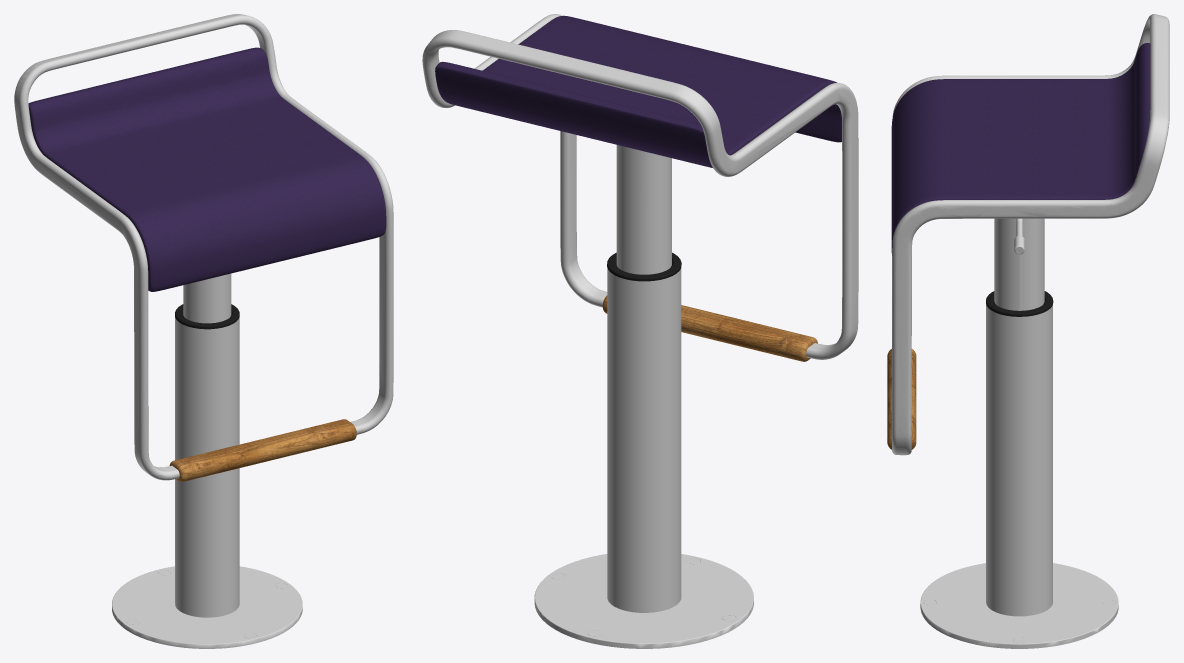
File: c113-teknofibra-17.glb
The picture shows the model from 3 angles, left to right: view 1: azimuth 30°, elevation 25°; view 2: azimuth 150°, elevation 25°; view 3: azimuth 270°, elevation 25°; orthographic projection. The views are drawn at different scales.
Visible parts, largest first — view 1: c113-seduta-tessuto, c113-base-piastra, c113-poggiapiedi-legno, c113-ammortizzatore-distanziale; view 2: c113-base-piastra, c113-seduta-tessuto, c113-poggiapiedi-legno, c113-ammortizzatore-distanziale; view 3: c113-base-piastra, c113-seduta-tessuto, c113-poggiapiedi-legno, c113-ammortizzatore-distanziale.
Part boxes in pixels (box(x1,y1,x2,y2)): c113-seduta-tessuto: box(28, 47, 386, 291); c113-base-piastra: box(14, 14, 393, 648); c113-poggiapiedi-legno: box(169, 419, 356, 481); c113-ammortizzatore-distanziale: box(175, 304, 239, 329); c113-base-piastra: box(422, 14, 858, 648); c113-seduta-tessuto: box(435, 15, 841, 167); c113-poggiapiedi-legno: box(602, 295, 817, 361); c113-ammortizzatore-distanziale: box(607, 252, 681, 281); c113-base-piastra: box(892, 14, 1169, 648); c113-seduta-tessuto: box(891, 43, 1150, 255); c113-poggiapiedi-legno: box(887, 349, 916, 449); c113-ammortizzatore-distanziale: box(986, 291, 1053, 316).
Bounding box in the file's own units: 0.4852 × 0.9046 × 0.4268.
4 materials, 2 textured.
